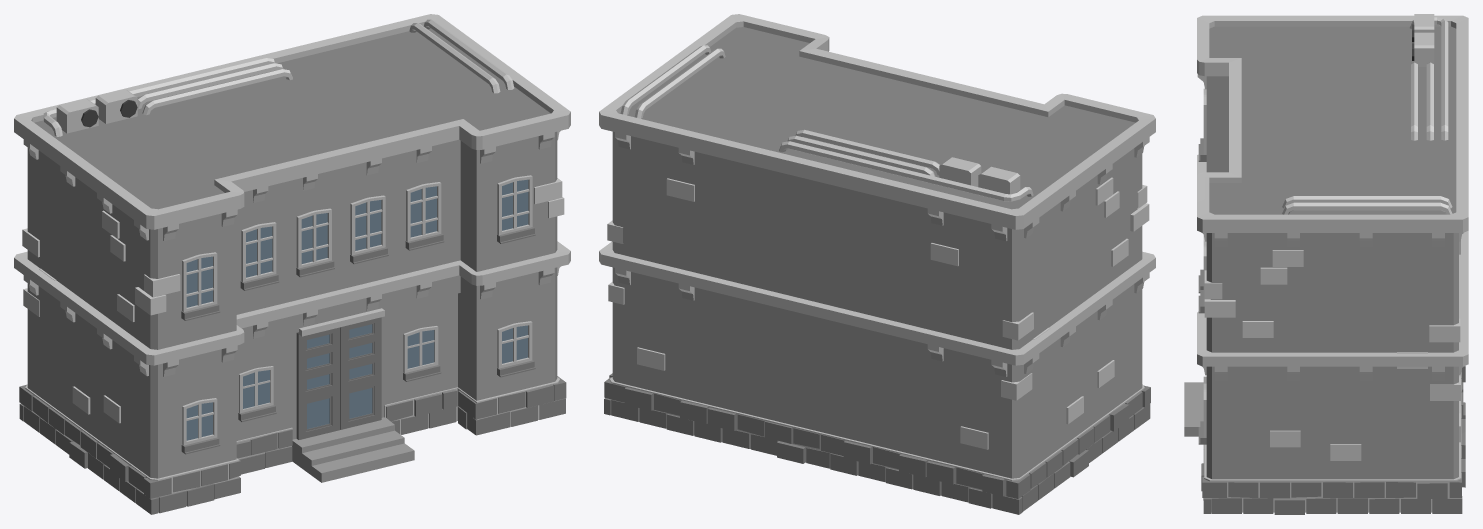
File: qtb_2story_wide.fbx
3 views of the same model, side by side, from view 1: azimuth 30°, elevation 25°; view 2: azimuth 150°, elevation 25°; view 3: azimuth 270°, elevation 25° (orthographic).
Visible parts, largest first — view 1: qtb_2story_wide_LOD0; view 2: qtb_2story_wide_LOD0; view 3: qtb_2story_wide_LOD0.
Boxes of the visible parts, x1,y1,x2,y2 form: qtb_2story_wide_LOD0: (14,14,570,514); qtb_2story_wide_LOD0: (599,14,1155,514); qtb_2story_wide_LOD0: (1184,14,1468,514).
Size of what is drawn, in the model's own units: 10.33 by 7.42 by 6.09.
